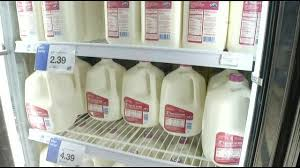milk: (207, 74, 249, 168), (25, 65, 74, 131), (164, 64, 204, 136), (121, 59, 162, 129), (86, 60, 125, 123), (184, 1, 225, 50), (41, 1, 85, 43), (103, 1, 142, 43), (227, 1, 258, 52), (144, 1, 178, 45)
